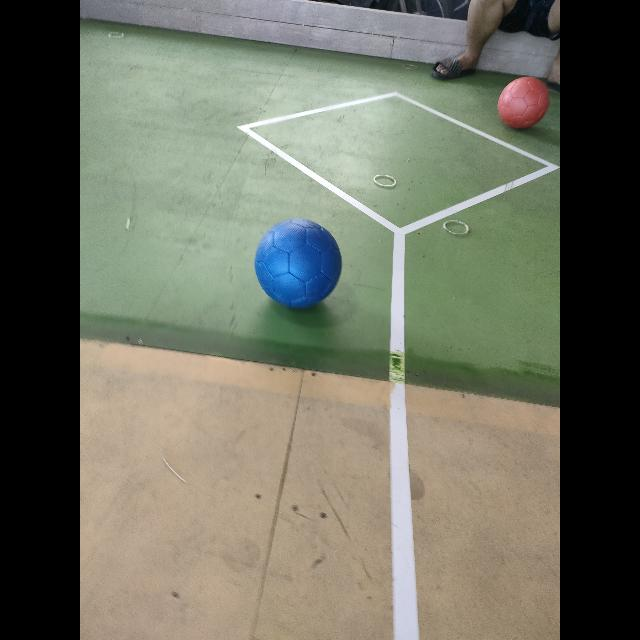B: (255, 219, 342, 307)
R: (498, 76, 548, 128)
